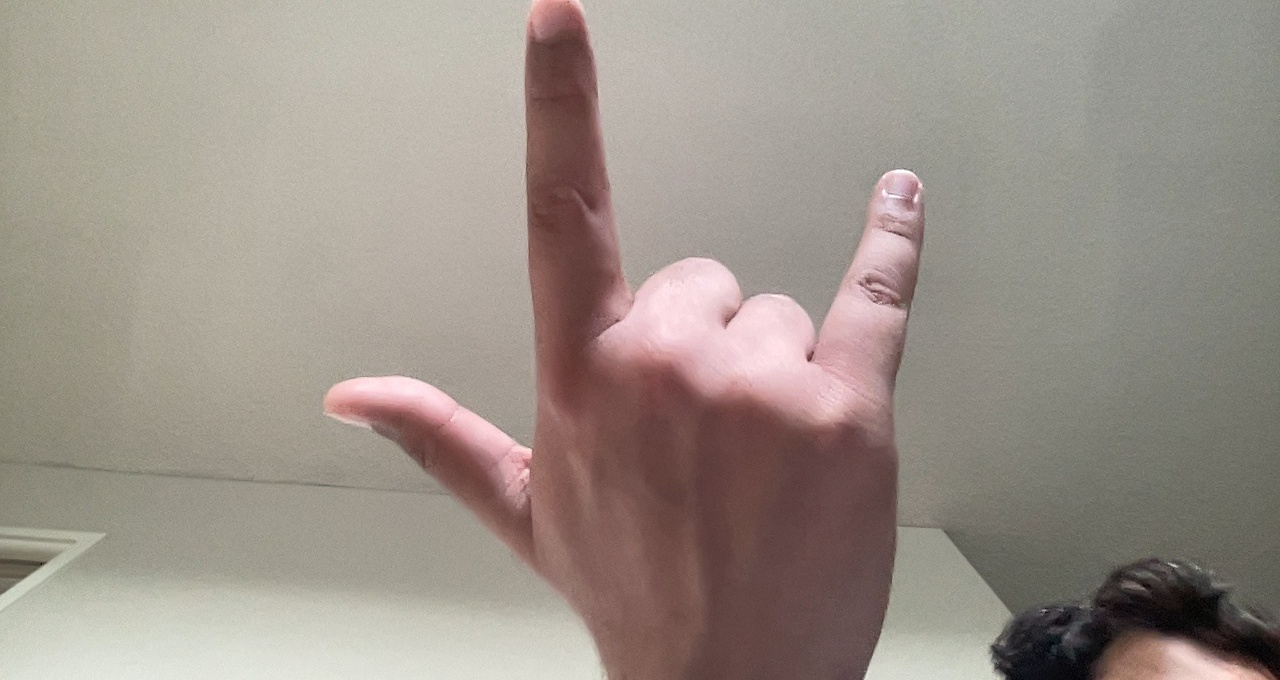rockon sign: (290, 2, 946, 649)
